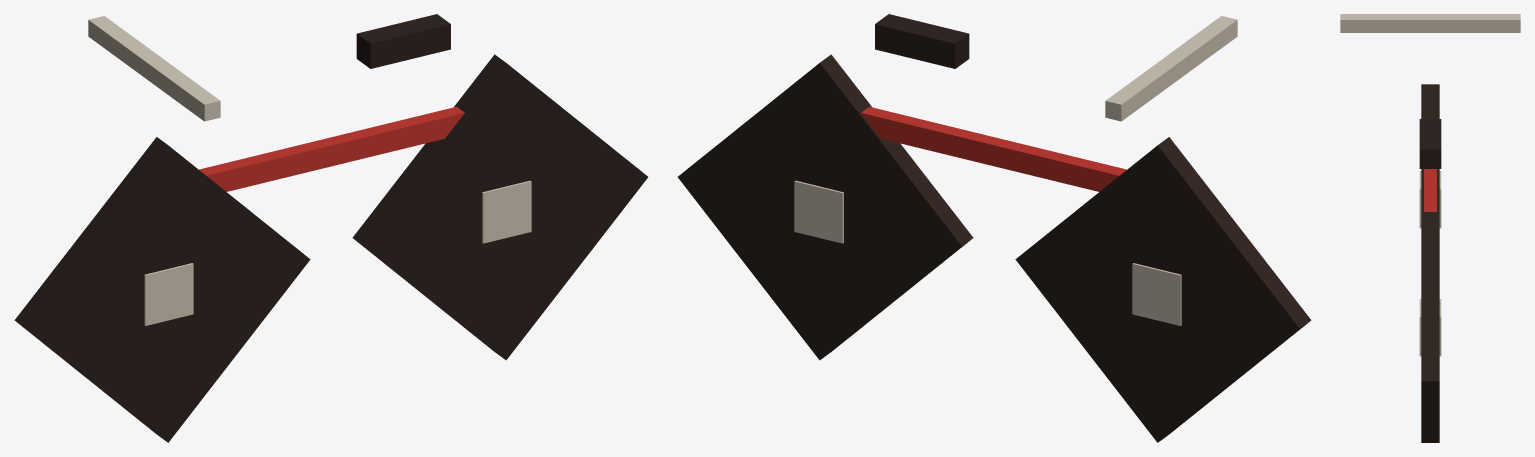
Rendered from bike_jamie.glb.
3 renders of one model, left to right at view 1: azimuth 30°, elevation 25°; view 2: azimuth 150°, elevation 25°; view 3: azimuth 270°, elevation 25°, orthographic. The views are drawn at different scales.
Visible parts, largest first — view 1: Box1, Box3, Box5, Box8, Box7, Box2, Box4; view 2: Box1, Box3, Box5, Box8, Box7, Box2, Box4; view 3: Box3, Box8, Box7, Box1, Box5, Box2, Box4.
Part boxes in pixels (left/top/right/bottom): Box1: left=14, top=137, right=310, bottom=442; Box3: left=352, top=54, right=647, bottom=360; Box5: left=199, top=106, right=464, bottom=191; Box8: left=88, top=16, right=220, bottom=121; Box7: left=356, top=14, right=450, bottom=68; Box2: left=144, top=263, right=193, bottom=325; Box4: left=482, top=180, right=531, bottom=243; Box1: left=1015, top=137, right=1311, bottom=442; Box3: left=678, top=54, right=973, bottom=360; Box5: left=861, top=106, right=1126, bottom=191; Box8: left=1105, top=16, right=1237, bottom=121; Box7: left=875, top=14, right=969, bottom=68; Box2: left=1132, top=263, right=1181, bottom=325; Box4: left=794, top=180, right=843, bottom=243; Box3: left=1421, top=212, right=1439, bottom=442; Box8: left=1340, top=14, right=1520, bottom=32; Box7: left=1419, top=119, right=1441, bottom=168; Box1: left=1421, top=84, right=1439, bottom=211; Box5: left=1424, top=169, right=1436, bottom=211; Box2: left=1419, top=171, right=1441, bottom=228; Box4: left=1419, top=299, right=1441, bottom=356.
Size of the model in its own units: 1.55 by 0.9036 by 0.5.
